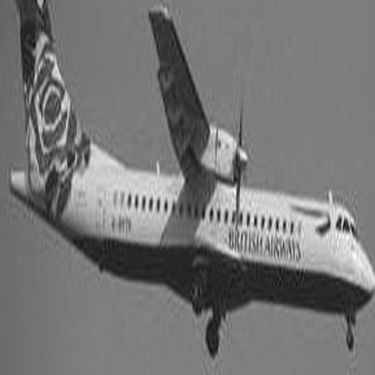airplane: (10, 1, 372, 356)
